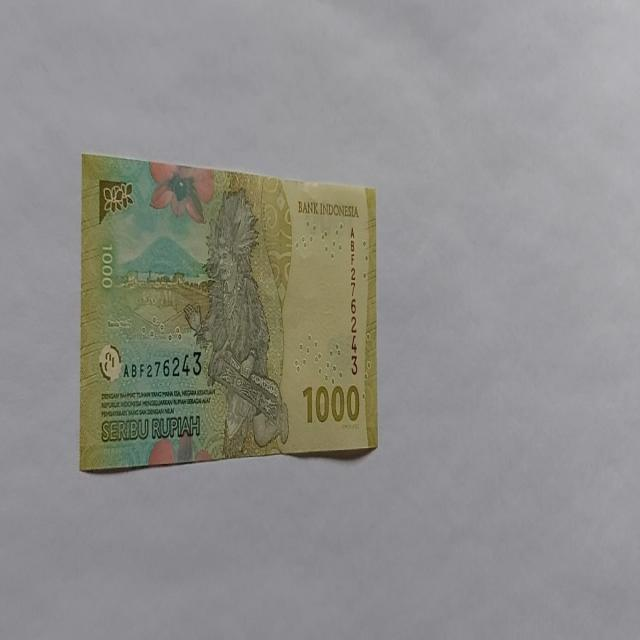seribu rupiah kertas: (79, 150, 378, 472)
